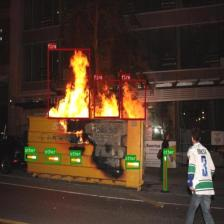fire: (47, 48, 90, 119), (93, 79, 119, 118), (121, 79, 145, 120)
